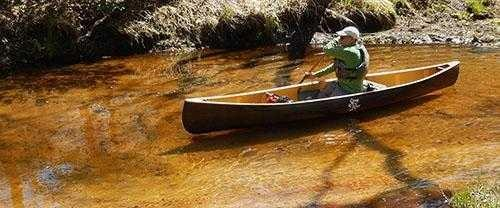kayak: (180, 59, 459, 136)
